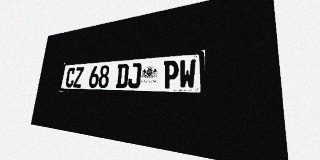6: (88, 66, 100, 88)
8: (98, 65, 110, 88)
C: (65, 67, 76, 88)
D: (116, 64, 129, 88)
J: (127, 63, 142, 88)
P: (163, 60, 179, 89)
W: (179, 59, 196, 89)
Z: (73, 67, 84, 88)
